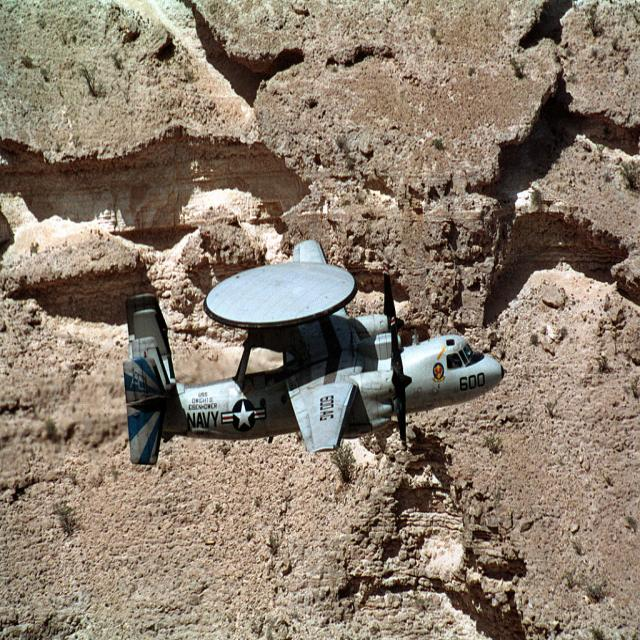MIL_Plane: (97, 240, 428, 465)
